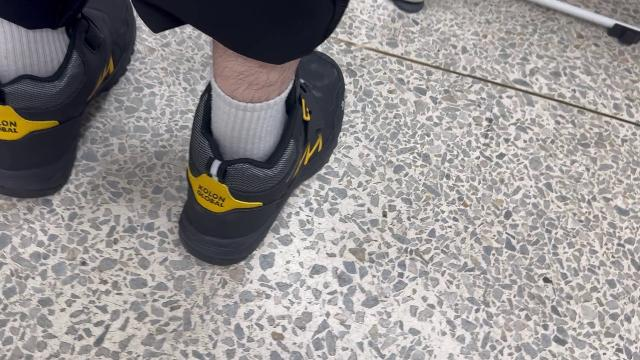shoe_worn: (173, 48, 348, 269), (4, 3, 136, 199)
